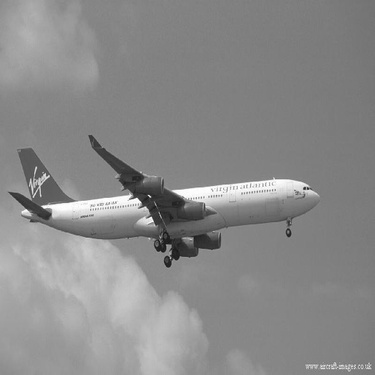airplane: (6, 118, 327, 270)
